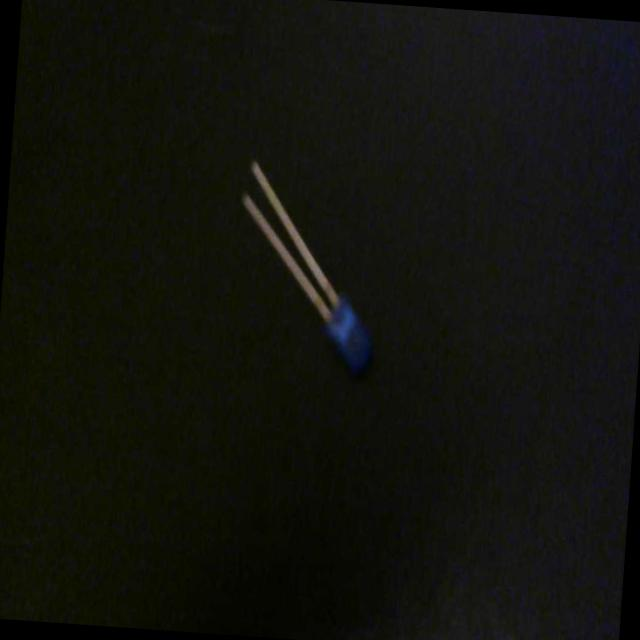blue_led: (228, 154, 384, 376)
